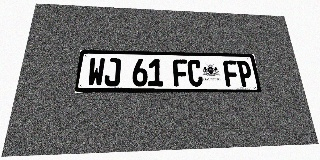1: (148, 59, 163, 86)
6: (132, 58, 148, 86)
C: (187, 59, 203, 86)
F: (223, 60, 240, 87), (173, 59, 189, 86)
J: (104, 58, 121, 86)
P: (236, 60, 254, 87)
W: (87, 58, 105, 86)
